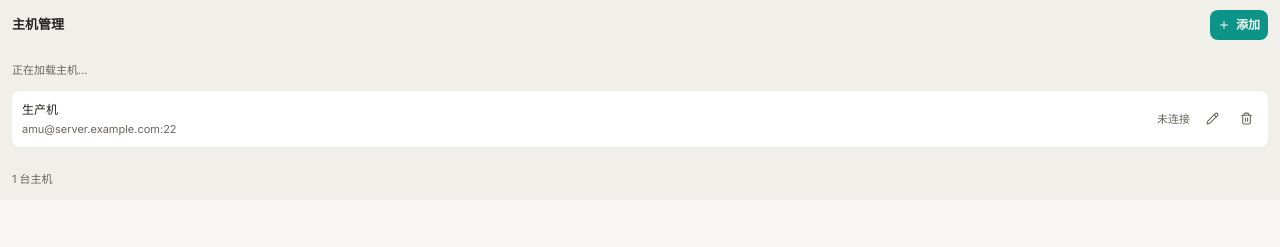
SshHostsPanel › deletes a host from its row
The image size is (1280, 247).
Click the button named "删除 生产机" at (1246, 119), box [1234,107,1258,131]
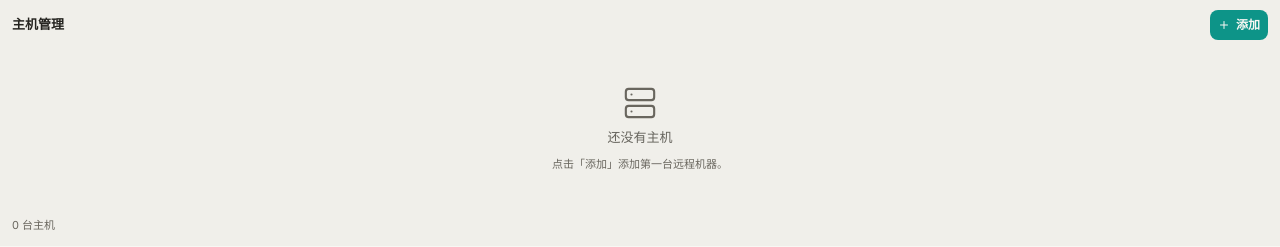
Expected: the button "生产机" is gone
